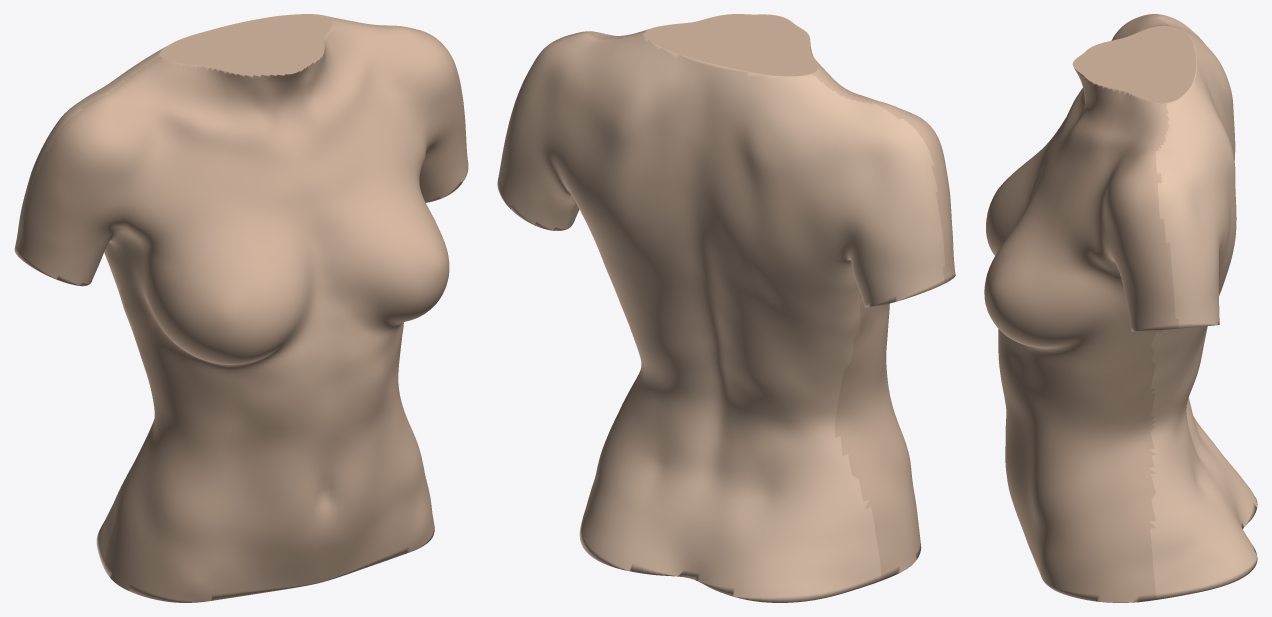
The model's file is female-back.glb.
3 renders of one model, left to right at view 1: azimuth 30°, elevation 25°; view 2: azimuth 150°, elevation 25°; view 3: azimuth 270°, elevation 25°, orthographic. The views are drawn at different scales.
Visible parts, largest first — view 1: context, paintable; view 2: paintable, context; view 3: context, paintable.
Part boxes in pixels (box(x1,y1,x2,y2)): context: box(18, 14, 468, 602); paintable: box(14, 16, 418, 567); paintable: box(497, 32, 944, 602); context: box(549, 14, 955, 580); context: box(984, 14, 1196, 602); paintable: box(1149, 14, 1257, 599).
Size of the model in its own units: 469 by 500 by 265.
